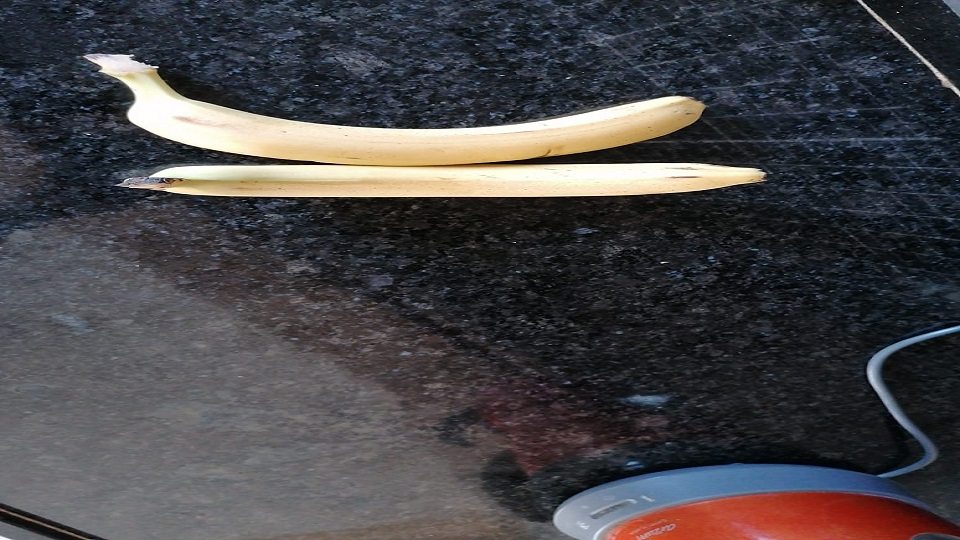muz: (86, 52, 705, 166), (126, 163, 768, 199)
